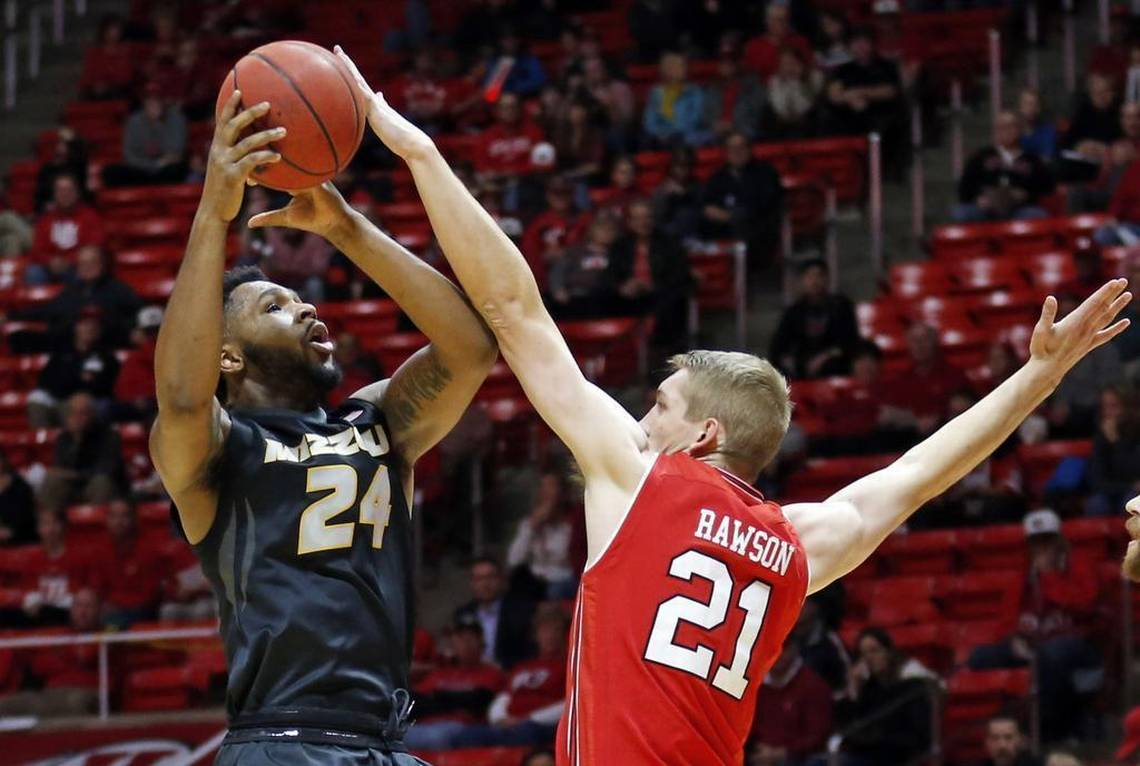block: (203, 0, 1057, 764)
shoot: (135, 27, 502, 766)
